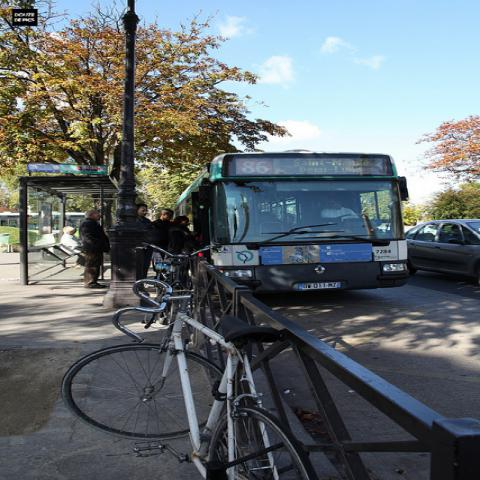bus: (172, 154, 414, 291), (0, 210, 85, 239)
car: (402, 217, 479, 285)
